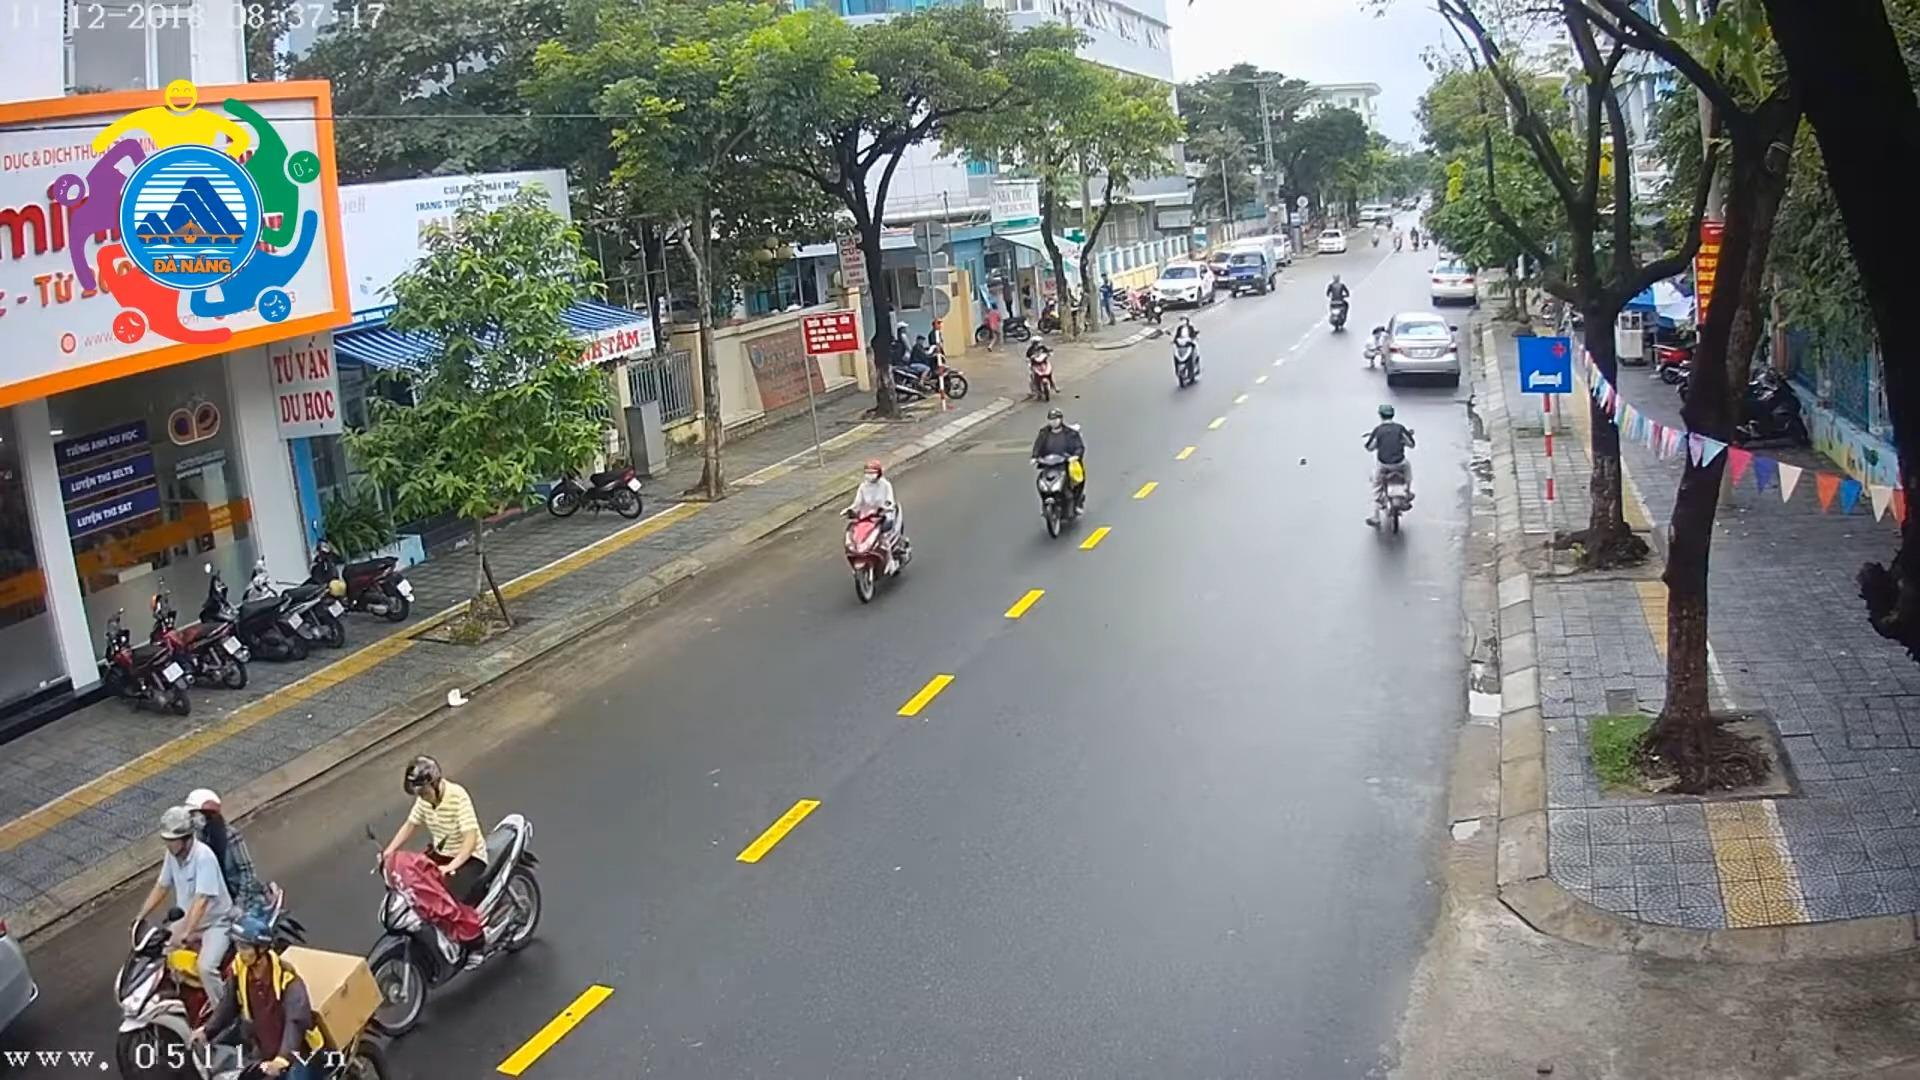car: (1381, 295, 1469, 398), (1221, 233, 1286, 302), (1149, 258, 1217, 309), (1427, 258, 1486, 314), (1315, 227, 1350, 255)
motorcycle: (351, 742, 549, 1046), (102, 778, 291, 1076), (181, 910, 385, 1080), (816, 451, 927, 629), (1348, 393, 1437, 551), (195, 559, 315, 666), (94, 599, 193, 723), (140, 585, 251, 694), (1029, 406, 1108, 547), (241, 553, 349, 650), (299, 537, 417, 624), (547, 446, 646, 521), (889, 334, 971, 402), (1017, 334, 1079, 410), (1166, 311, 1213, 405), (1325, 266, 1354, 342), (975, 310, 1030, 345), (1391, 222, 1404, 253), (1410, 222, 1422, 255), (1370, 220, 1381, 248)
